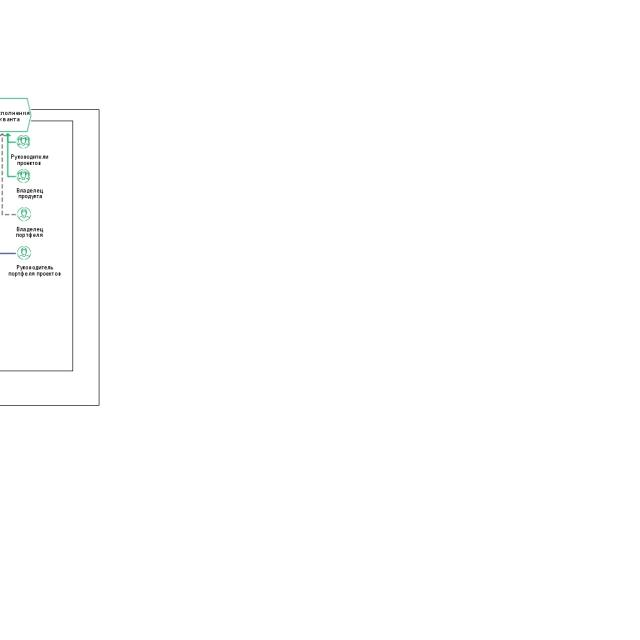text_region: (7, 264, 61, 278), (10, 152, 50, 167), (15, 225, 45, 239), (16, 187, 44, 201)
